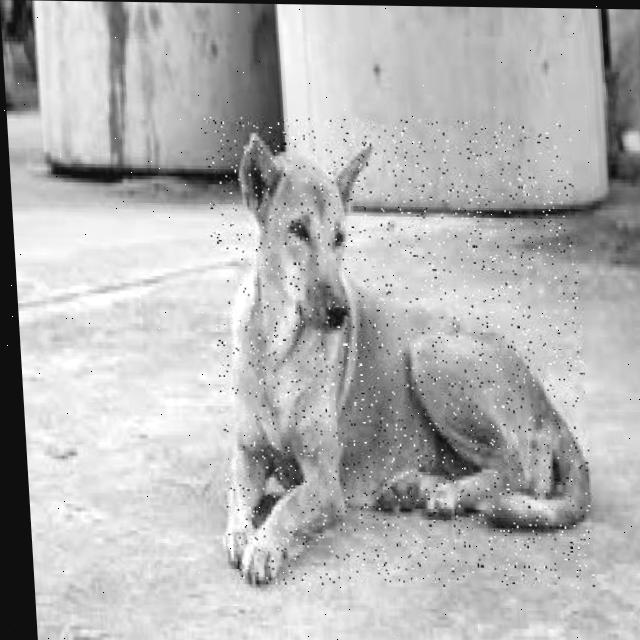Dog: (204, 118, 599, 591)
